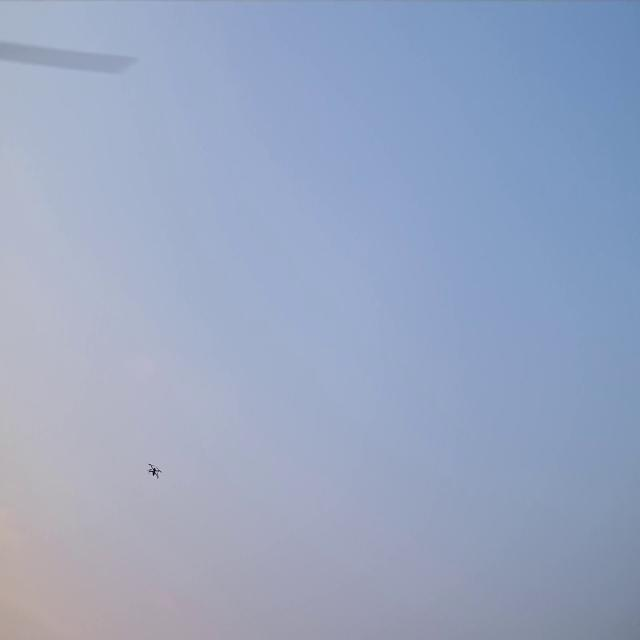UAV: (149, 464, 160, 478)
